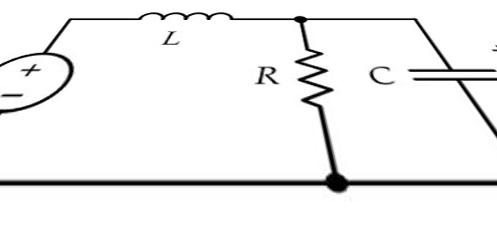inductor: (127, 4, 249, 31)
